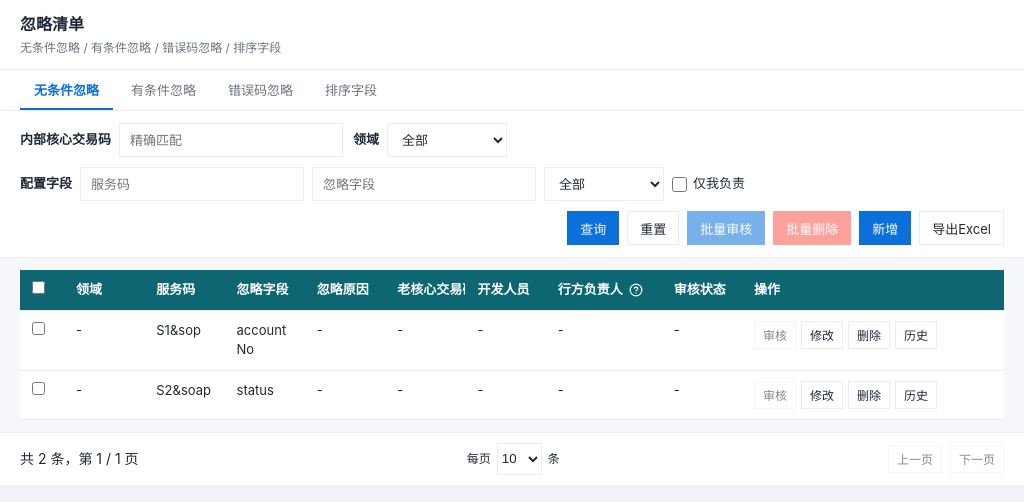
Scenario: ReplayConfigPage（忽略清单） › explains the reviewer requirement from the bank owner column header
Focus the button with test id "bank-owner-help" at point(636, 290), box [627,281,645,299]
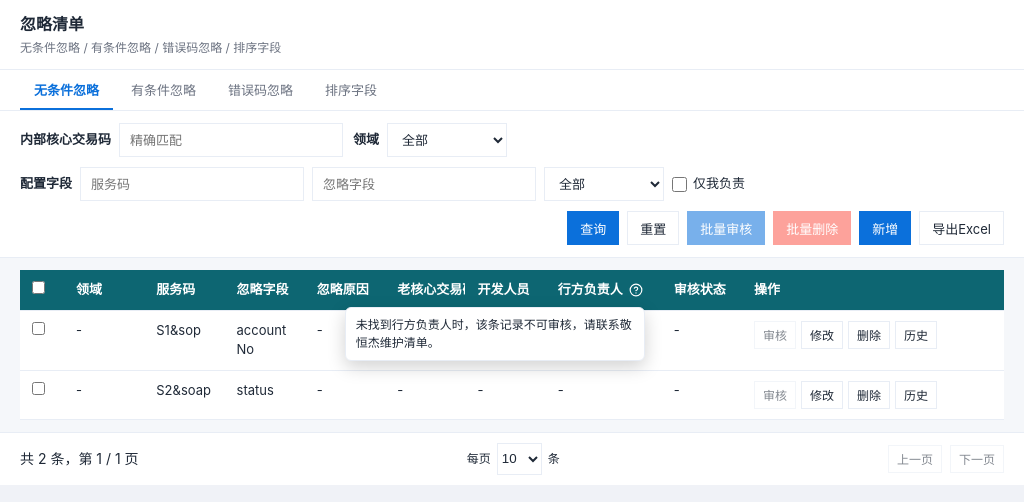
Expected: the tooltip with test id "bank-owner-tooltip" is shown, [345,307,645,361]
Expected: the tooltip with test id "bank-owner-tooltip" reads "未找到行方负责人时，该条记录不可审核，请联系敬恒杰维护清单。", [356,317,632,350]
